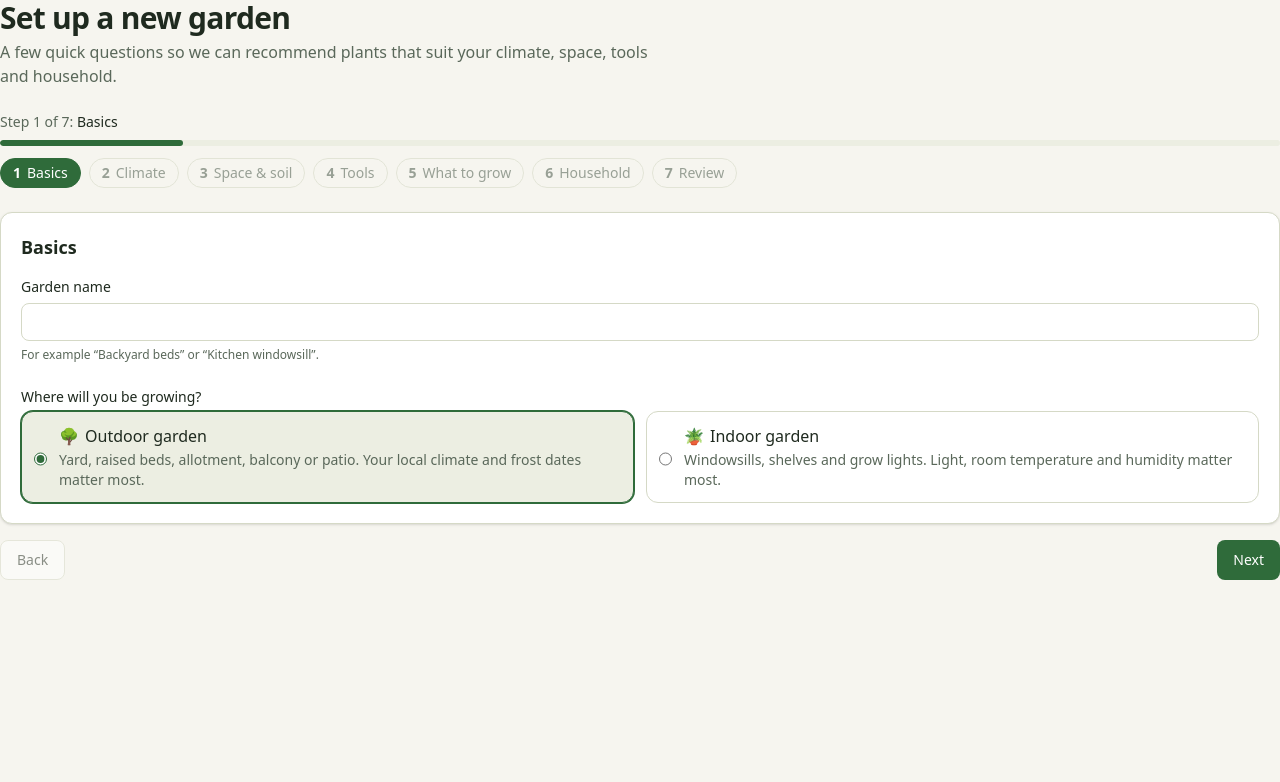
SetupWizard climate step › zip lookup applies the zone, and shows an error message on failure
Type "G" into the field labelled "Garden name".
click(640, 322); type("G")  # box [21,303,1259,341]
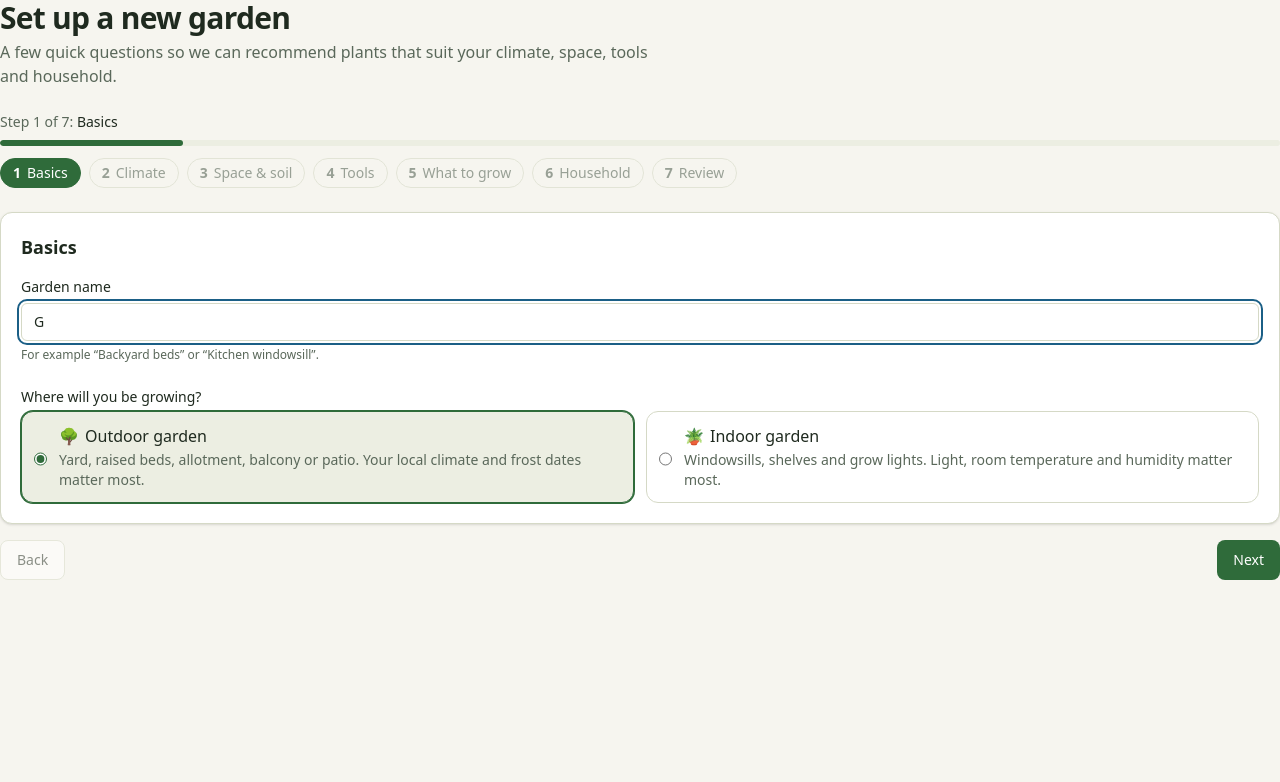
Click the button "Next".
click(1249, 560)  # box [1217,540,1279,580]
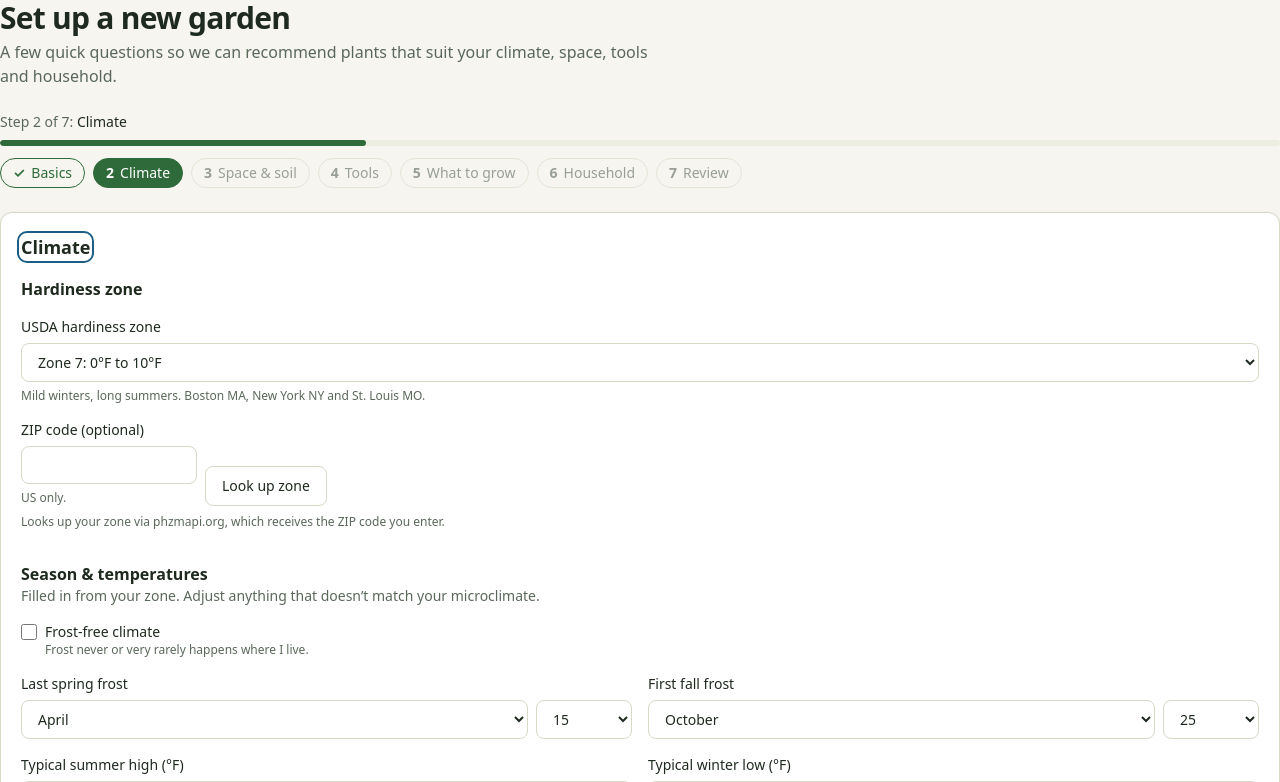
Type "02134" into the field labelled "ZIP code (optional)".
click(109, 465); type("02134")  # box [21,446,197,484]
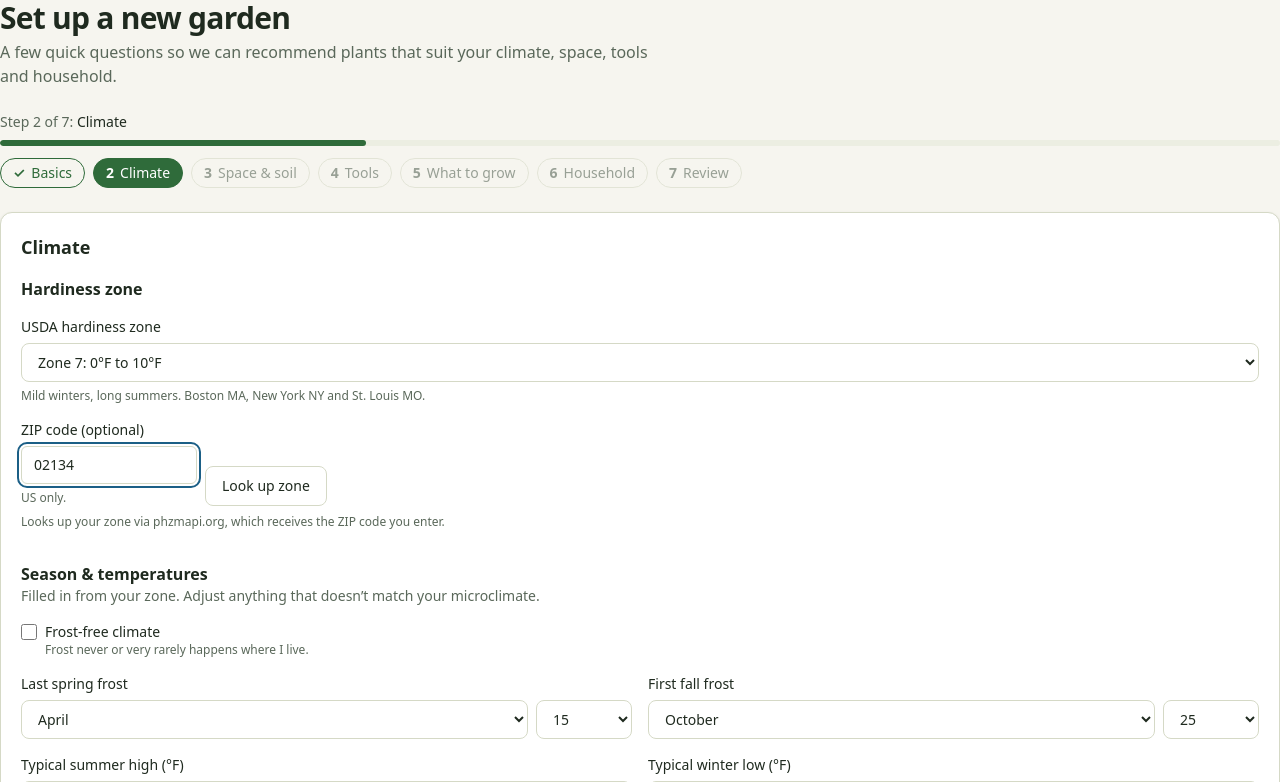
Click the button "Look up zone".
click(266, 486)  # box [205,466,327,506]
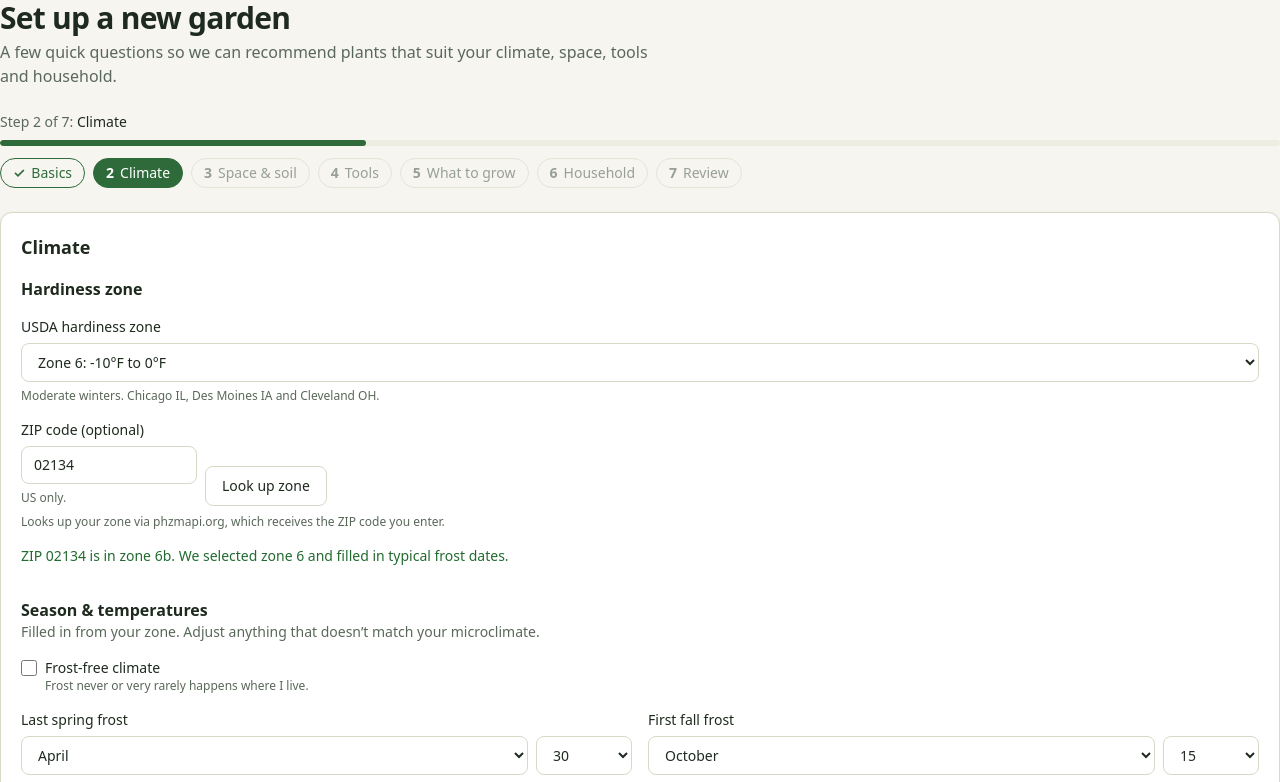
Now the message shows "zone 6b", box [21,546,509,565]
Now the dropdown labelled "USDA hardiness zone" shows "Zone 6: -10°F to 0°F", box [21,343,1259,382]
Click the button "Look up zone".
click(266, 486)  # box [205,466,327,506]
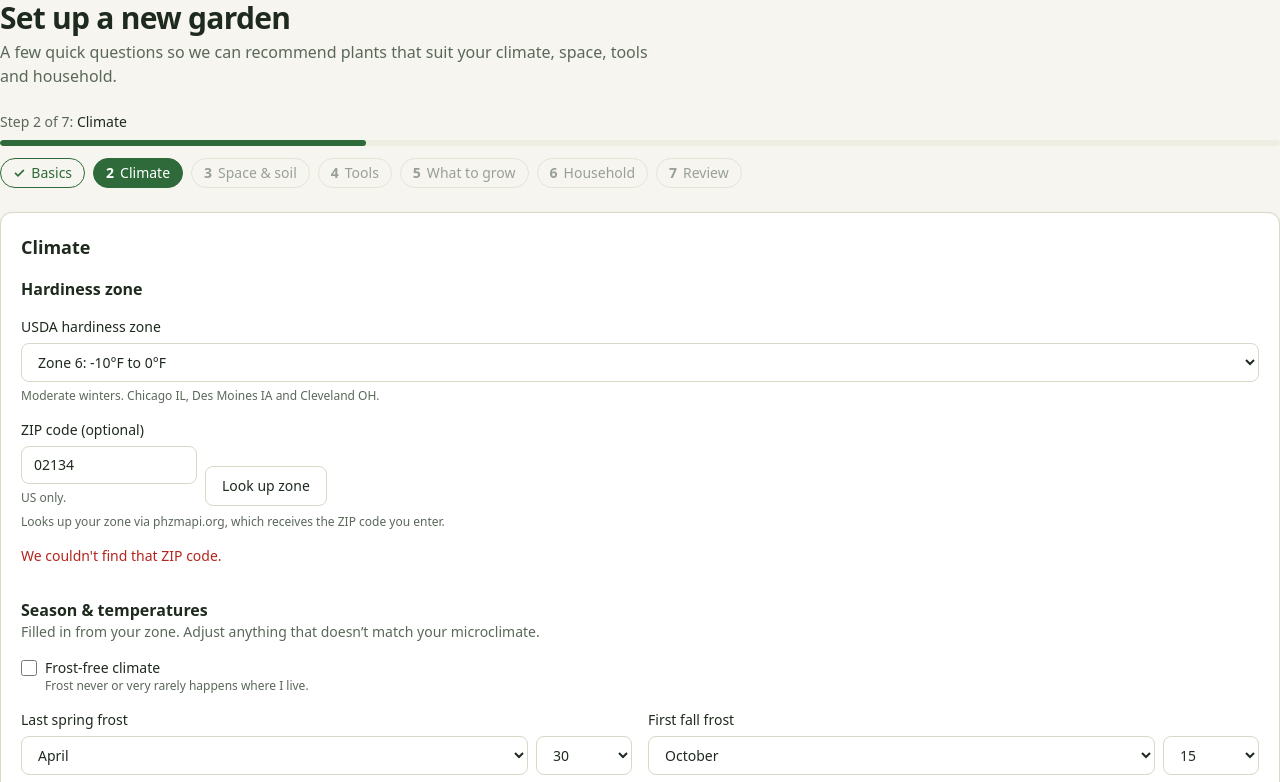
Now the dropdown labelled "USDA hardiness zone" shows "Zone 6: -10°F to 0°F", box [21,343,1259,382]
Now the message shows "couldn't find", box [21,546,222,565]
